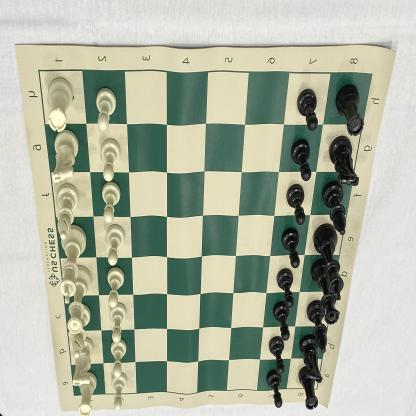black-bishop: (322, 182, 347, 235), (306, 300, 328, 353)
black-king: (314, 224, 346, 300)
black-pawn: (297, 86, 318, 134), (292, 139, 311, 183), (276, 268, 294, 312), (287, 185, 305, 229), (282, 229, 300, 271), (272, 303, 290, 342), (268, 337, 286, 375), (266, 370, 283, 408)
black-queen: (316, 266, 340, 326)
black-rook: (329, 136, 359, 190), (334, 84, 364, 137), (299, 337, 322, 384), (299, 366, 319, 410)
white-bishop: (54, 185, 79, 242), (69, 304, 91, 358)
white-king: (58, 225, 87, 304)
white-knight: (51, 130, 79, 186), (72, 338, 95, 387)
white-pawn: (96, 138, 121, 182), (92, 87, 117, 131), (102, 223, 125, 267), (102, 267, 125, 308), (97, 183, 121, 222), (107, 303, 127, 343), (107, 340, 127, 378), (107, 374, 127, 411)
white-queen: (65, 266, 92, 334)
white-rook: (46, 77, 74, 135), (76, 372, 98, 416)
